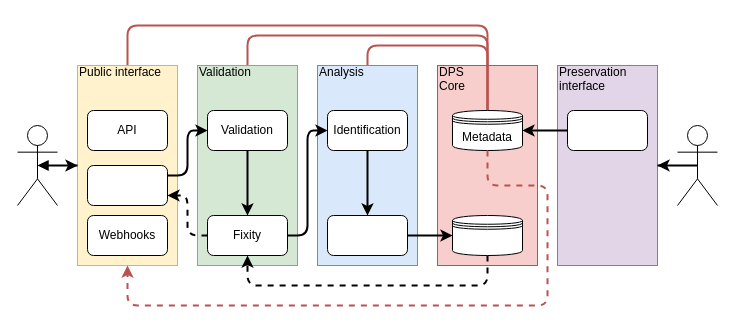
This 742x331 diagram has some shape labels left out. The centre of each missing label's shape, as x and y in pixels:
"Client" belongs at [37,165].
"Custodian" belongs at [697,165].
"Data" belongs at [487,235].
"File transfer" belongs at [127,185].
"Metadata extraction" belongs at [367,235].
"OLAP Interface" belongs at [607,130].
